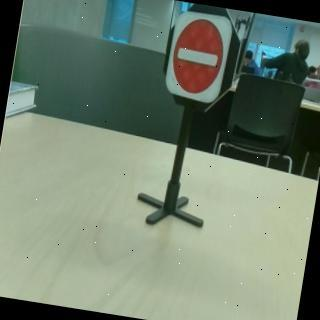sign_noentry: (162, 9, 237, 108)
